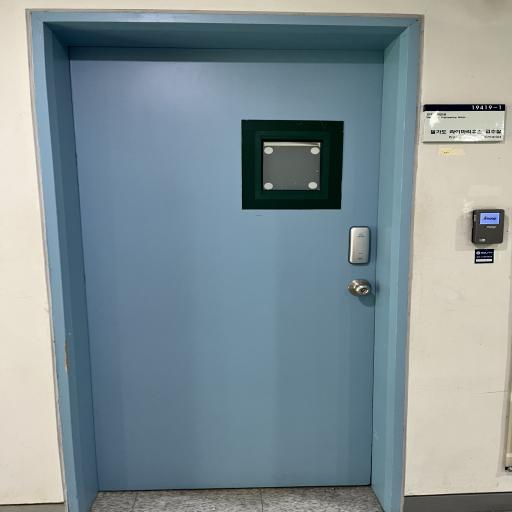door: (25, 12, 427, 512)
